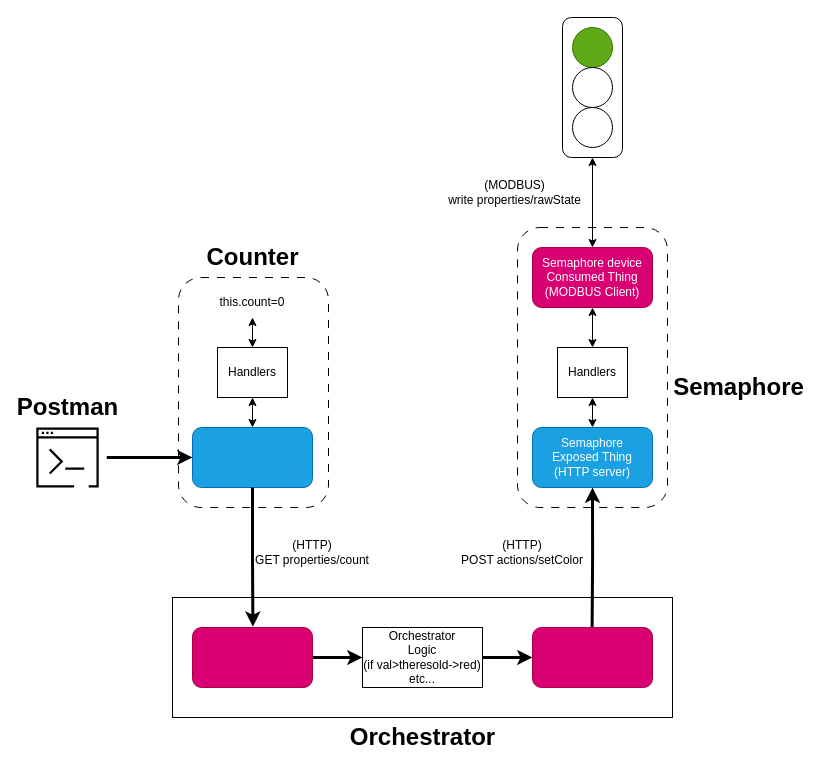
The diagram is 821 pixels wide and 775 high, and some of its shapes have lost their labels. The centre of each missing label's shape, as x and y in pixels:
Counter Consumed Thing (HTTP client): the point at 252,657
Counter Exposed Thing (HTTP server): the point at 252,457
Semaphore Consumed Thing (HTTP Client): the point at 592,657
